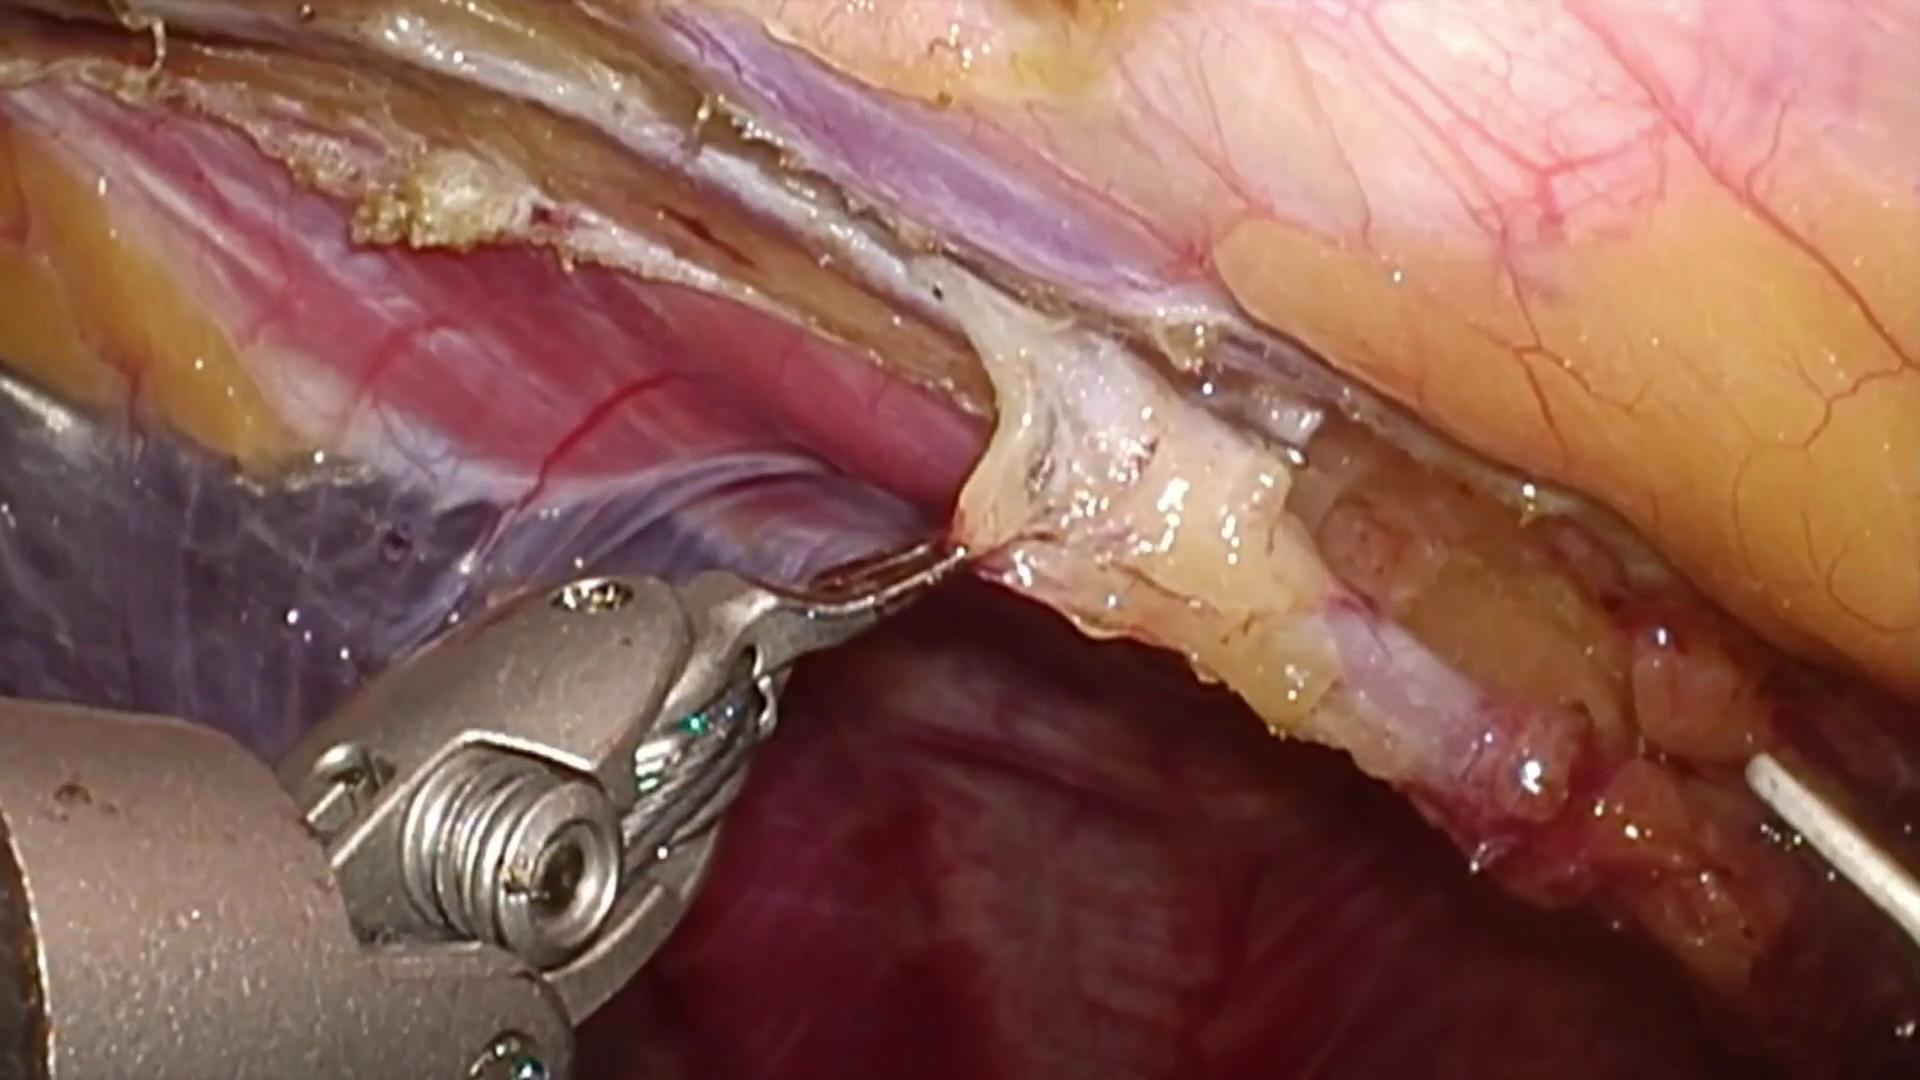Cautery_Spatula: (1738, 750, 1920, 969)
Debakey: (688, 521, 976, 688)
